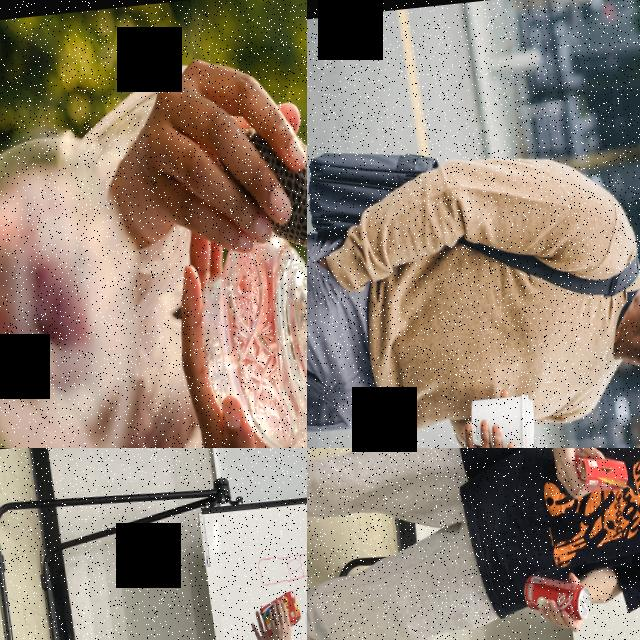can: (518, 568, 592, 624)
cup: (467, 390, 542, 448)
